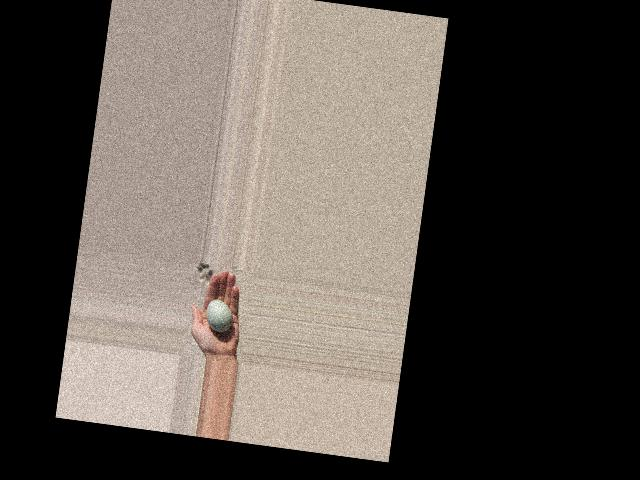egg: (205, 298, 235, 332)
